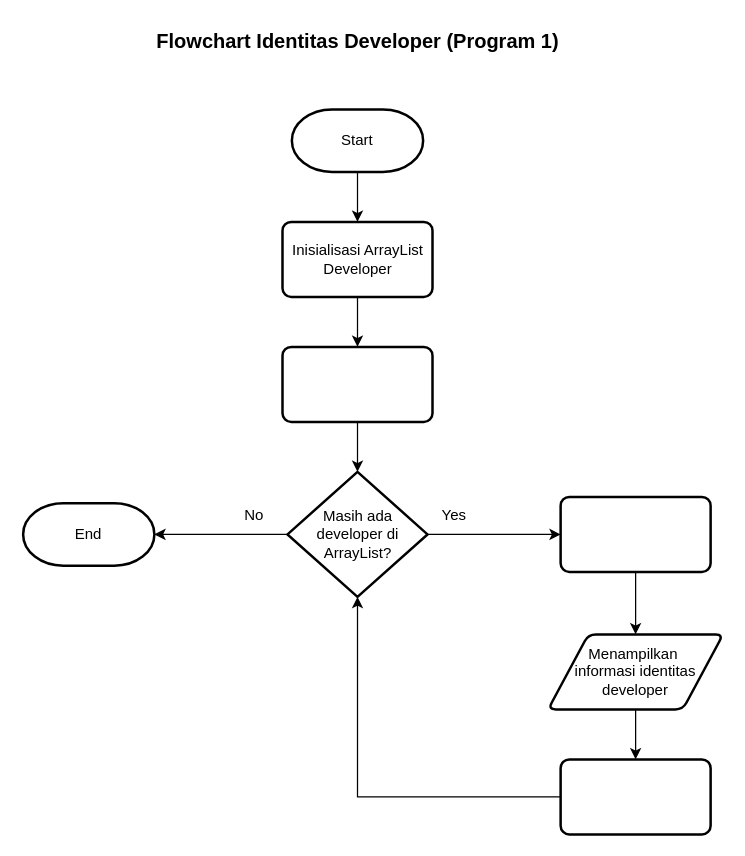
The diagram is 745 pixels wide and 856 high, and some of its shapes have lost their labels. Each missing label, with the box of its shape:
Index++: (559, 758, 711, 835)
Panggil method untuk menampilkan informasi: (559, 495, 711, 572)
Tambah data developer ke ArrayList: (281, 345, 433, 422)
